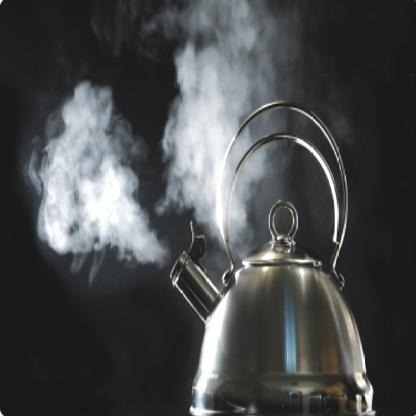smoke: (34, 85, 150, 258), (170, 63, 260, 228)
